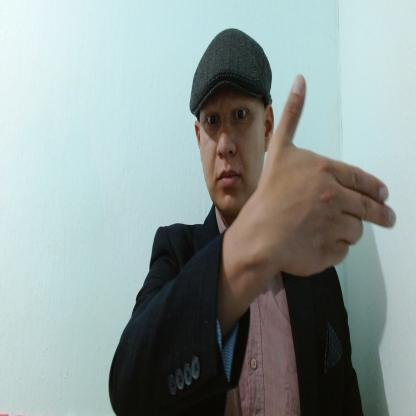H: (263, 75, 397, 278)
